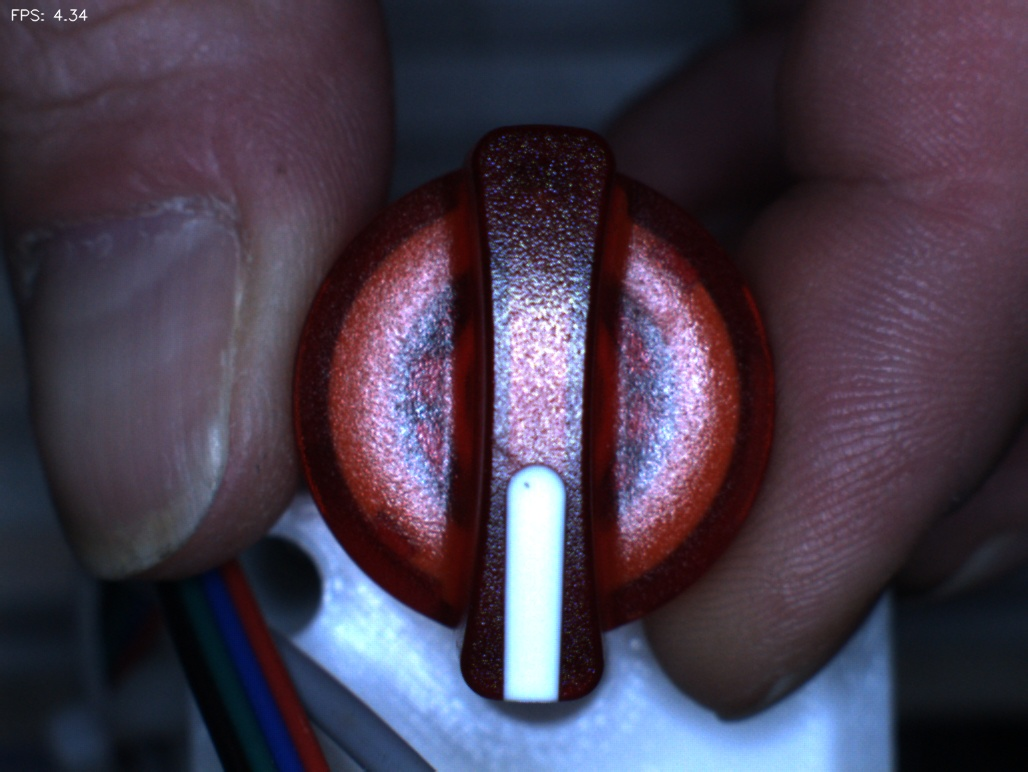PointNoir: (501, 453, 566, 523)
